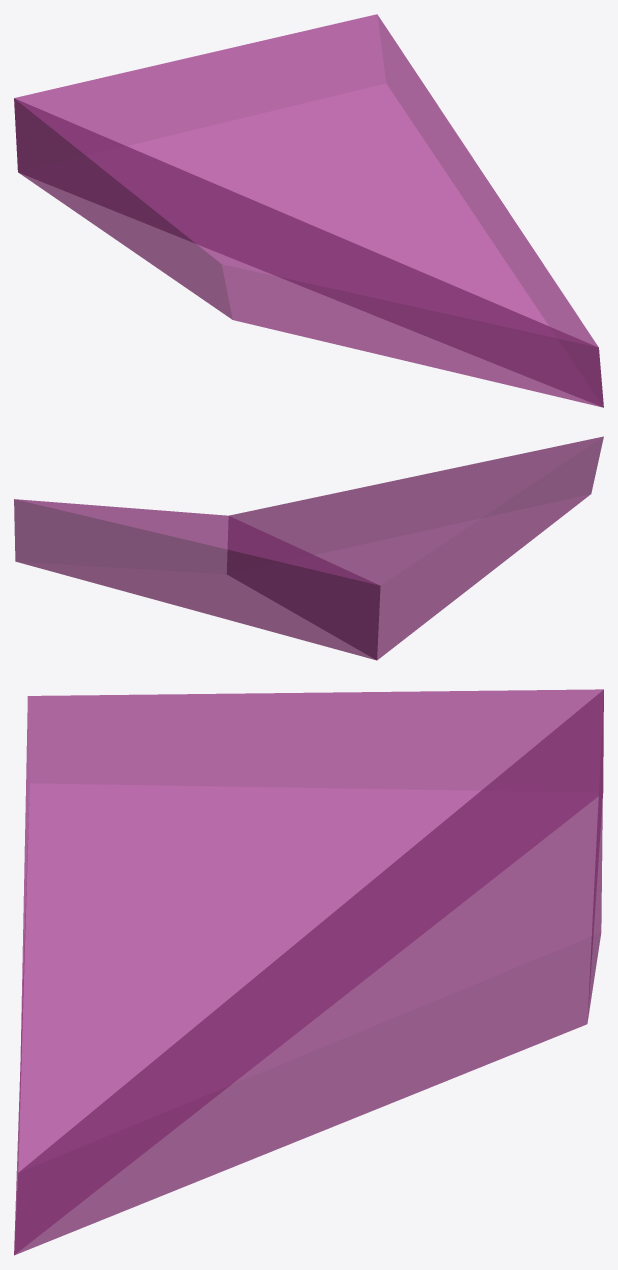
Rendered from SM_Bld_Roof_Edge_Corner_02_Collision_01.fbx.
3 views of the same model, one above another, from view 1: azimuth 30°, elevation 25°; view 2: azimuth 150°, elevation 25°; view 3: azimuth 270°, elevation 25° (orthographic). The views are drawn at different scales.
Visible parts, largest first — view 1: SM_Bld_Roof_Edge_Corner_02_Collision_01; view 2: SM_Bld_Roof_Edge_Corner_02_Collision_01; view 3: SM_Bld_Roof_Edge_Corner_02_Collision_01.
Part boxes in pixels (bbox=[...]): SM_Bld_Roof_Edge_Corner_02_Collision_01: bbox=[14, 14, 603, 407]; SM_Bld_Roof_Edge_Corner_02_Collision_01: bbox=[14, 436, 603, 660]; SM_Bld_Roof_Edge_Corner_02_Collision_01: bbox=[14, 689, 603, 1255].
Size of the model in its own units: 266 by 162 by 268.
